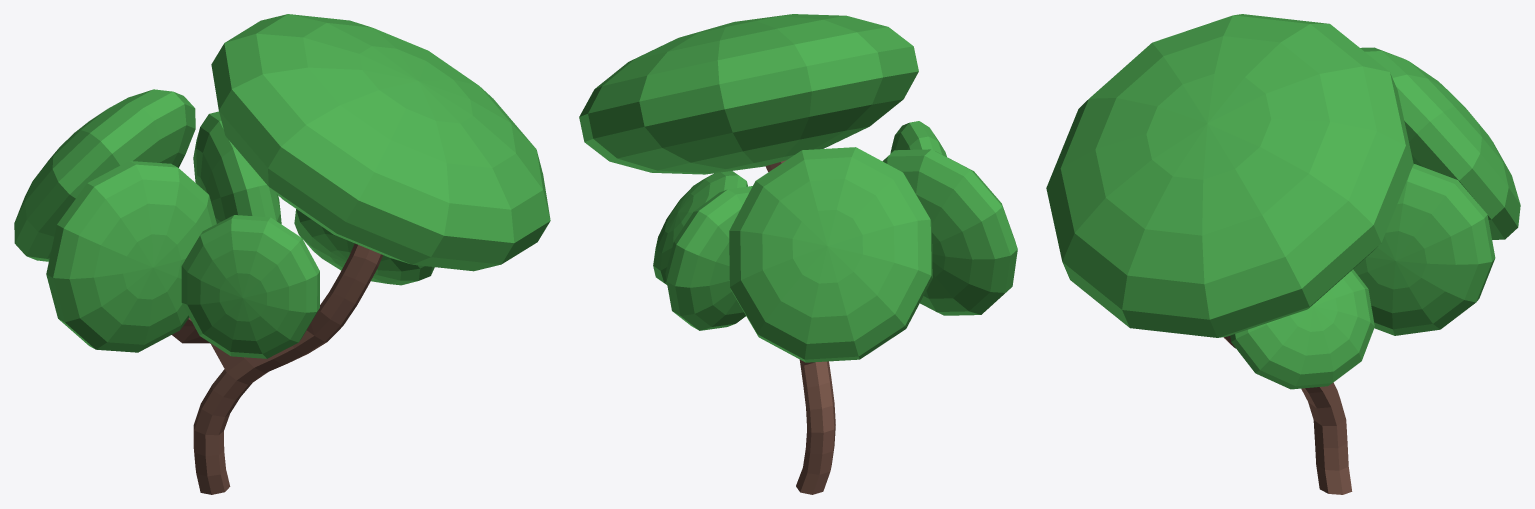
The picture shows the model from 3 angles, left to right: view 1: azimuth 30°, elevation 25°; view 2: azimuth 150°, elevation 25°; view 3: azimuth 270°, elevation 25°; orthographic projection. The views are drawn at different scales.
Visible parts, largest first — view 1: mesh_1608355030, mesh_575277804, mesh_1555488662, mesh_1868026102, group_1678952250, mesh_443852204, mesh_1729045749; view 2: mesh_1608355030, mesh_1868026102, mesh_575277804, mesh_443852204, group_1678952250, mesh_1729045749, mesh_1555488662; view 3: mesh_1608355030, mesh_443852204, mesh_1868026102, mesh_1729045749, group_1678952250.
Boxes of the visible parts, x1,y1,x2,y2 form: mesh_1608355030: (211,14,550,271); mesh_575277804: (46,161,216,352); mesh_1555488662: (181,215,319,358); mesh_1868026102: (14,89,195,261); group_1678952250: (172,243,382,494); mesh_443852204: (193,111,281,224); mesh_1729045749: (294,209,434,285); mesh_1608355030: (579,14,918,174); mesh_1868026102: (729,147,932,362); mesh_575277804: (882,149,1017,315); mesh_443852204: (665,186,752,330); group_1678952250: (765,160,835,494); mesh_1729045749: (653,171,747,284); mesh_1555488662: (890,121,946,156); mesh_1608355030: (1046,14,1413,337); mesh_443852204: (1353,164,1495,335); mesh_1868026102: (1360,47,1520,239); mesh_1729045749: (1230,269,1374,389); group_1678952250: (1223,336,1352,494).
Bounding box in the file's own units: 117 × 111 × 99.15.
